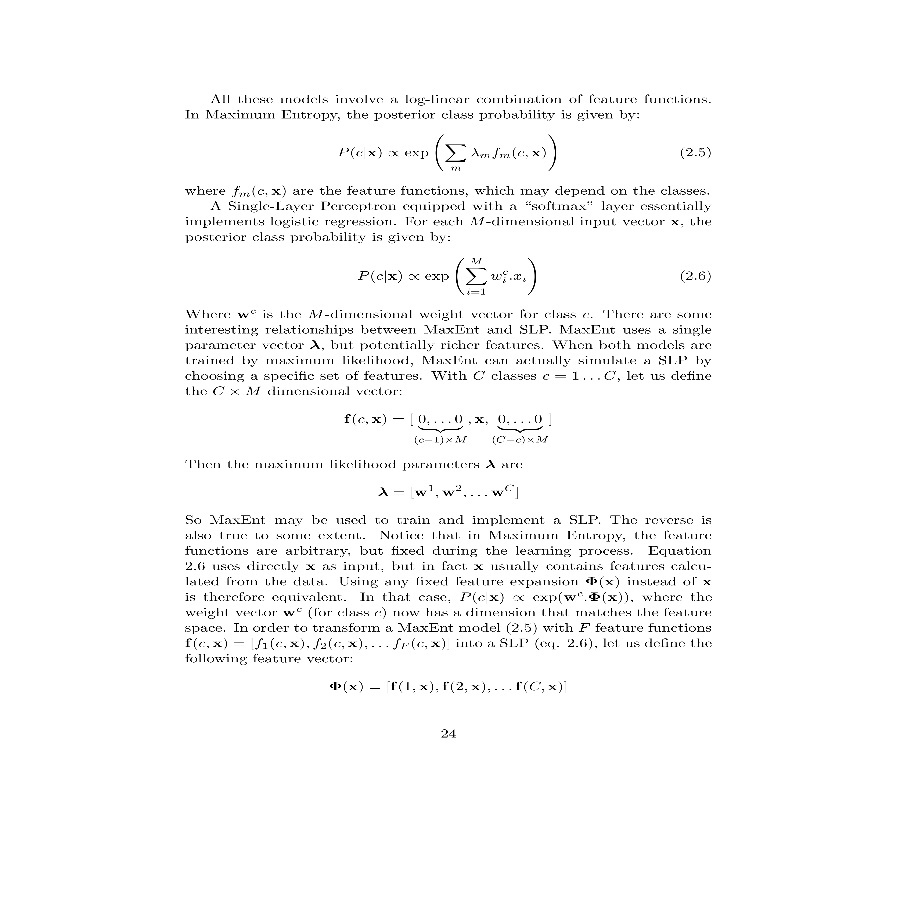eq: (335, 130, 563, 176), (353, 252, 541, 300), (340, 408, 561, 448), (327, 676, 570, 696), (376, 477, 522, 506)
